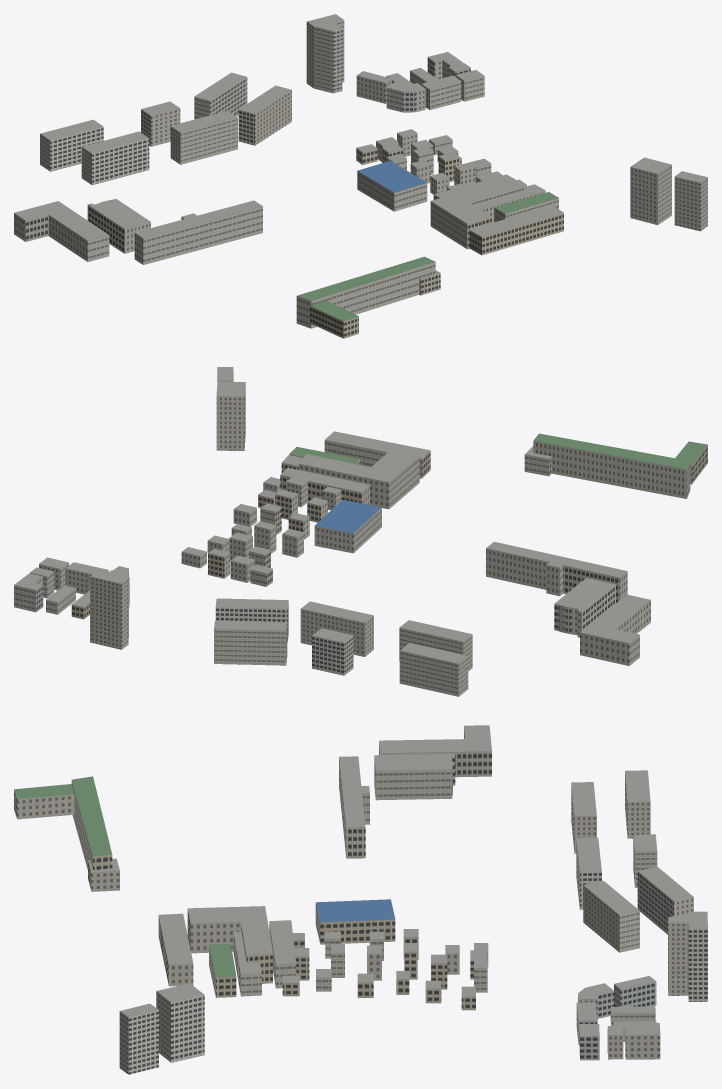
The picture shows the model from 3 angles, top to bottom: view 1: azimuth 30°, elevation 25°; view 2: azimuth 150°, elevation 25°; view 3: azimuth 270°, elevation 25°; orthographic projection. The views are drawn at different scales.
Visible parts, largest first — view 1: ctx-other-ribbon-2, ctx-roof, ctx-other-narrow-1, ctx-apartments-0, ctx-house-0, ctx-green-roof, ctx-blue-roof, ctx-school-0, ctx-other-0; view 2: ctx-other-narrow-1, ctx-roof, ctx-other-ribbon-2, ctx-house-0, ctx-apartments-0, ctx-green-roof, ctx-school-0, ctx-blue-roof; view 3: ctx-roof, ctx-other-narrow-1, ctx-other-ribbon-2, ctx-apartments-0, ctx-house-0, ctx-green-roof, ctx-commercial-0, ctx-blue-roof, ctx-other-0, ctx-school-0.
Part boxes in pixels (<box>): ctx-other-ribbon-2: <box>14,20,707,328</box>; ctx-roof: <box>14,14,707,278</box>; ctx-other-narrow-1: <box>48,21,700,264</box>; ctx-apartments-0: <box>50,29,342,184</box>; ctx-house-0: <box>310,76,563,338</box>; ctx-green-roof: <box>297,192,558,321</box>; ctx-blue-roof: <box>357,161,426,192</box>; ctx-school-0: <box>87,205,124,253</box>; ctx-other-0: <box>25,214,48,241</box>; ctx-other-narrow-1: <box>39,380,686,665</box>; ctx-roof: <box>14,367,650,663</box>; ctx-other-ribbon-2: <box>14,440,691,696</box>; ctx-house-0: <box>71,445,707,619</box>; ctx-apartments-0: <box>215,371,353,675</box>; ctx-green-roof: <box>289,433,707,469</box>; ctx-school-0: <box>554,565,619,633</box>; ctx-blue-roof: <box>315,499,381,533</box>; ctx-roof: <box>88,725,707,1035</box>; ctx-other-narrow-1: <box>17,758,693,1059</box>; ctx-other-ribbon-2: <box>71,744,688,1074</box>; ctx-apartments-0: <box>128,773,707,1074</box>; ctx-house-0: <box>14,790,613,1025</box>; ctx-green-roof: <box>14,776,236,977</box>; ctx-commercial-0: <box>578,981,656,1060</box>; ctx-blue-roof: <box>315,899,395,922</box>; ctx-other-0: <box>380,729,491,777</box>; ctx-school-0: <box>346,756,455,858</box>.
Bounding box in the file's own units: 422 × 49.43 × 398.
Materials: 10 (7 with a texture image).
